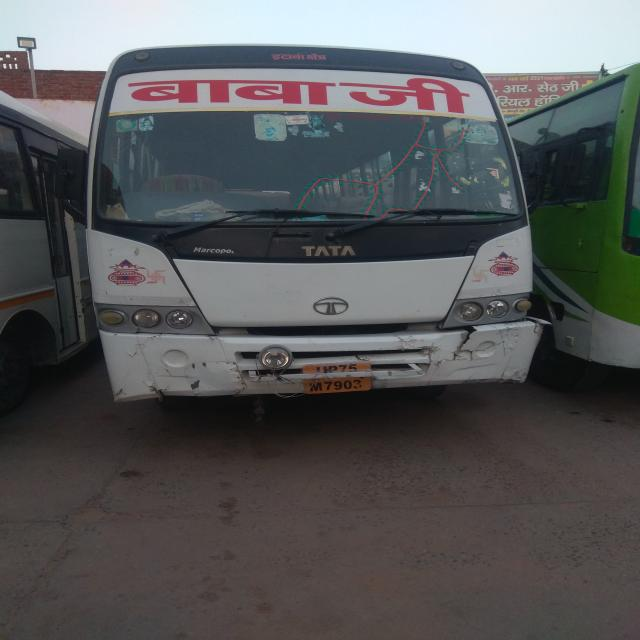Bus: (79, 50, 553, 403)
